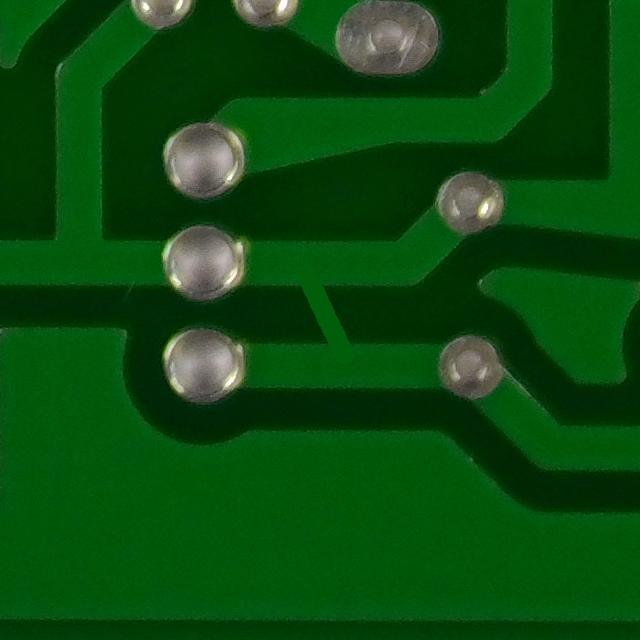short: (261, 244, 379, 397)
